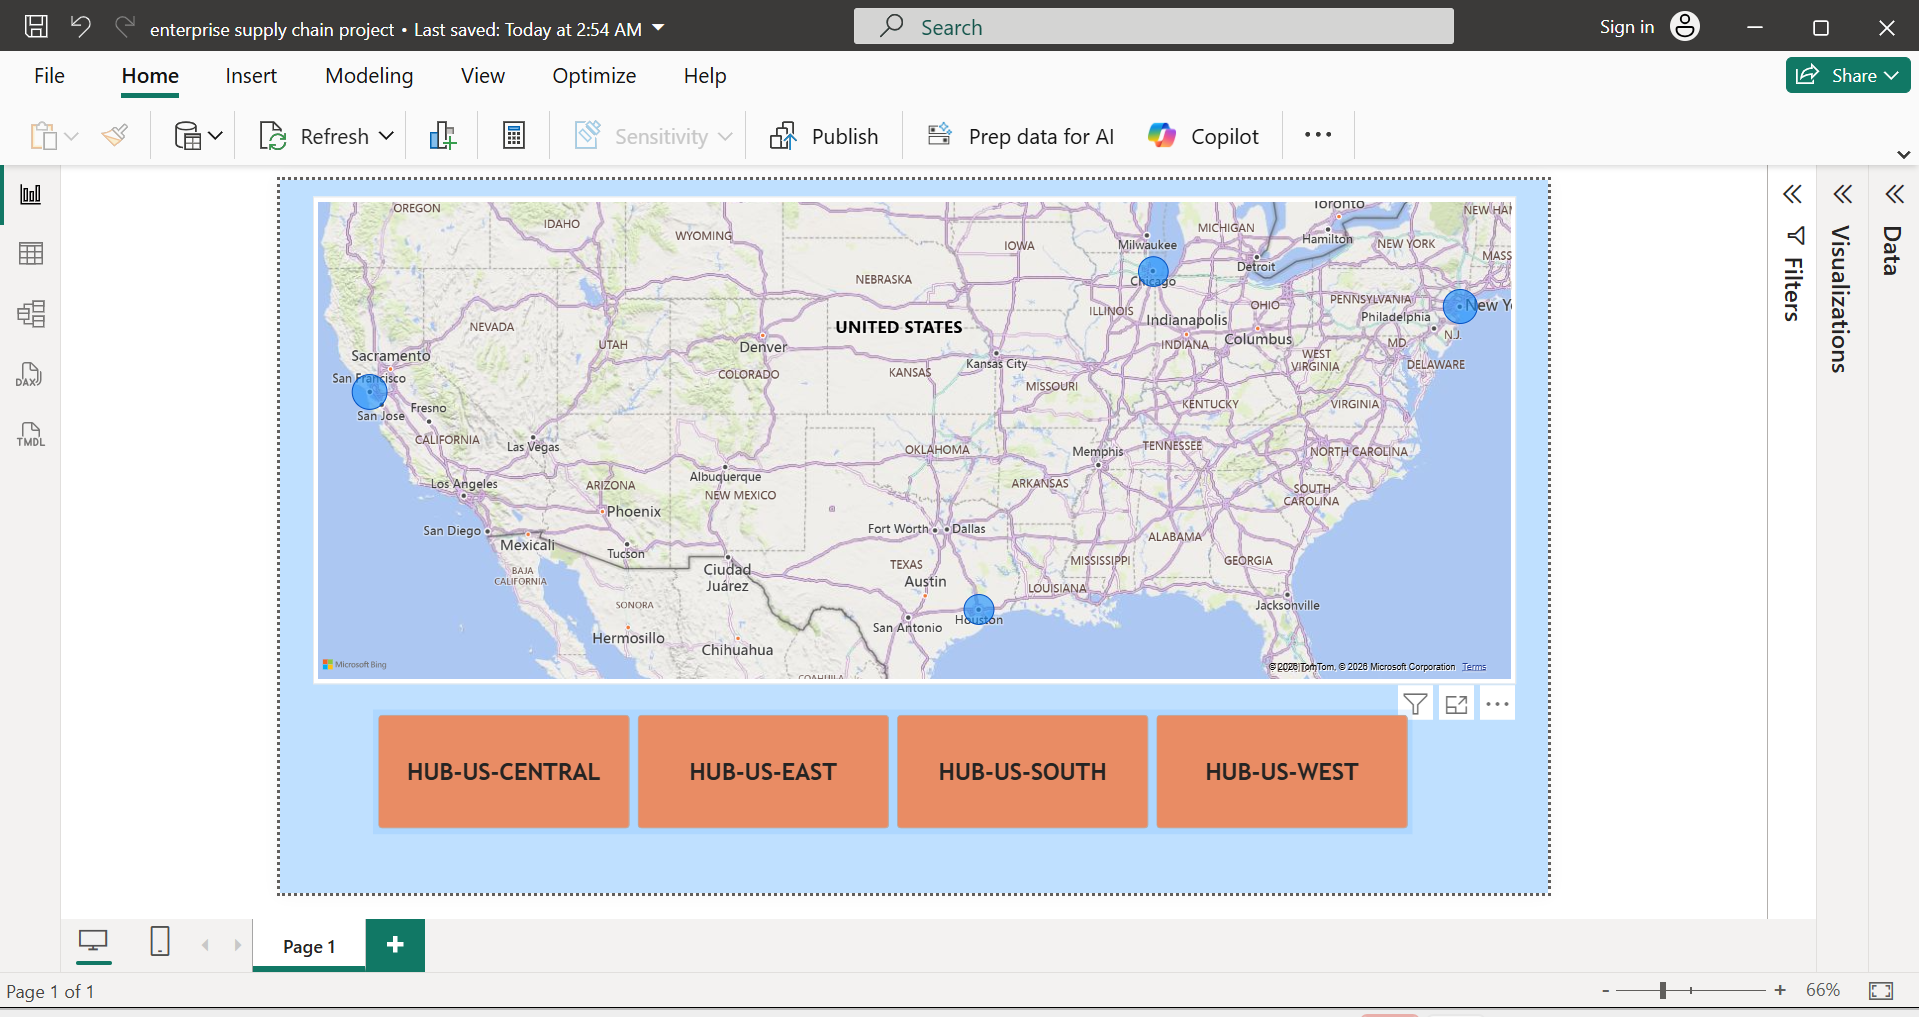

This screenshot's page, from the dashboard's own definition file:
{"tool":"powerbi","page":{"name":"Page 1","canvas":[1280,720],"ordinal":0},"visuals":[{"type":"map","fields":{"Size":["Avg(public orders.route_distance_miles)"],"Y":["public orders.hub_lat"],"X":["public orders.hub_lon"]},"box":[10.6,0,1215.9,492.1],"z":0},{"type":"advancedSlicerVisual","fields":{"Values":["public orders.hub_id"]},"box":[11,502,1104,218],"z":1}]}

Visuals, with their boxes on the page's 1280x720 design canvas (x1, y1, x2, y2). These are canvas units, not pixel positions in the 1919x1017 screenshot, which may show the page scaled, cropped or inside an application window:
map - Avg(public orders.route_distance_miles) x public orders.hub_lat: 11 0 1226 492
advancedSlicerVisual - public orders.hub_id: 11 502 1115 720
